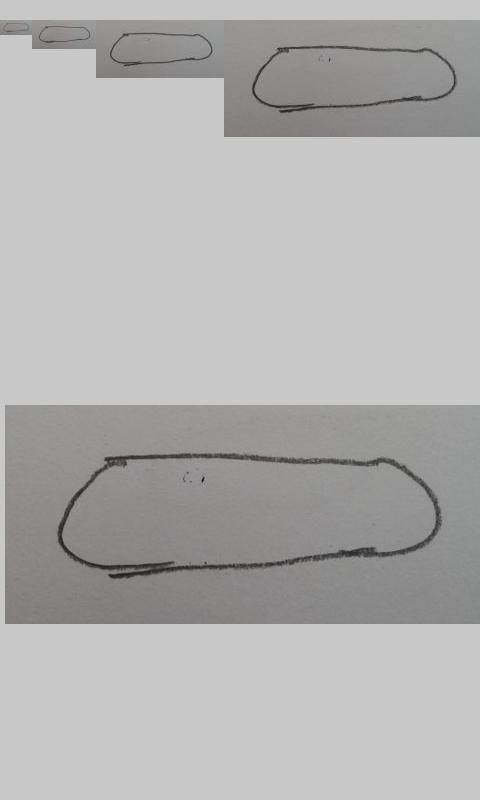chip: (59, 453, 444, 573), (251, 45, 458, 112), (110, 32, 213, 66), (38, 25, 90, 43), (3, 22, 30, 33)
